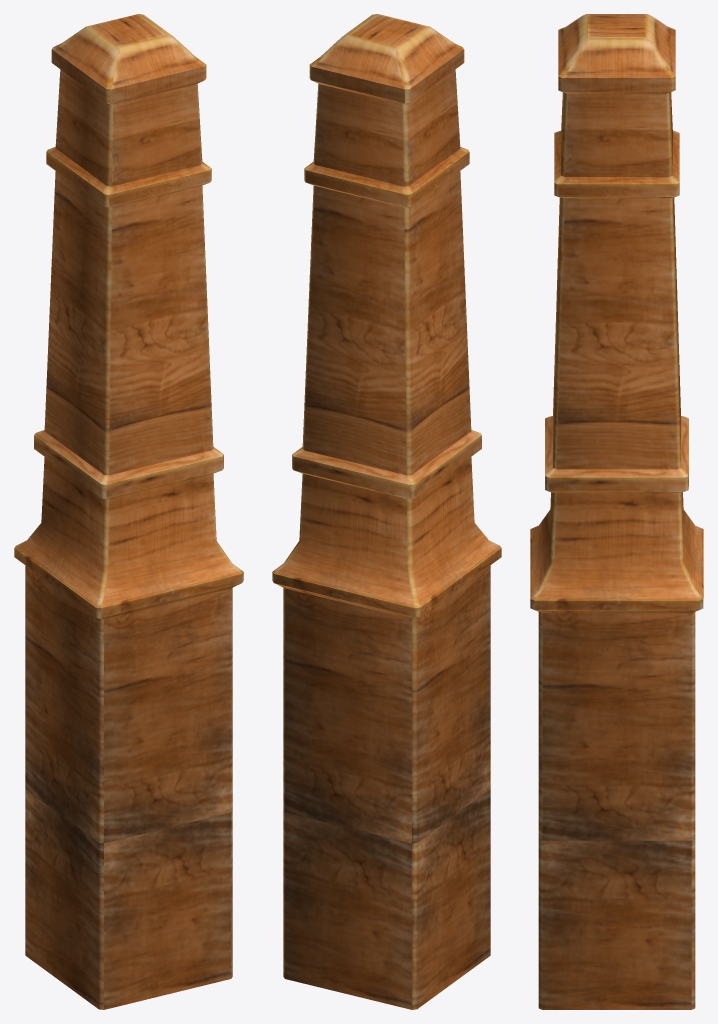
File: FLAT_railPillar_01.FBX
The picture shows the model from 3 angles, left to right: view 1: azimuth 30°, elevation 25°; view 2: azimuth 150°, elevation 25°; view 3: azimuth 270°, elevation 25°; orthographic projection.
Parts seen in each view (by area): view 1: FLAT_railPillar_01; view 2: FLAT_railPillar_01; view 3: FLAT_railPillar_01.
Part boxes in pixels (x1,y1,x2,y2): FLAT_railPillar_01: [14, 14, 243, 1009]; FLAT_railPillar_01: [272, 14, 501, 1009]; FLAT_railPillar_01: [530, 14, 703, 1009].
Bounding box in the file's own units: 32.51 × 197 × 32.51.
Materials: 1 (1 with a texture image).
